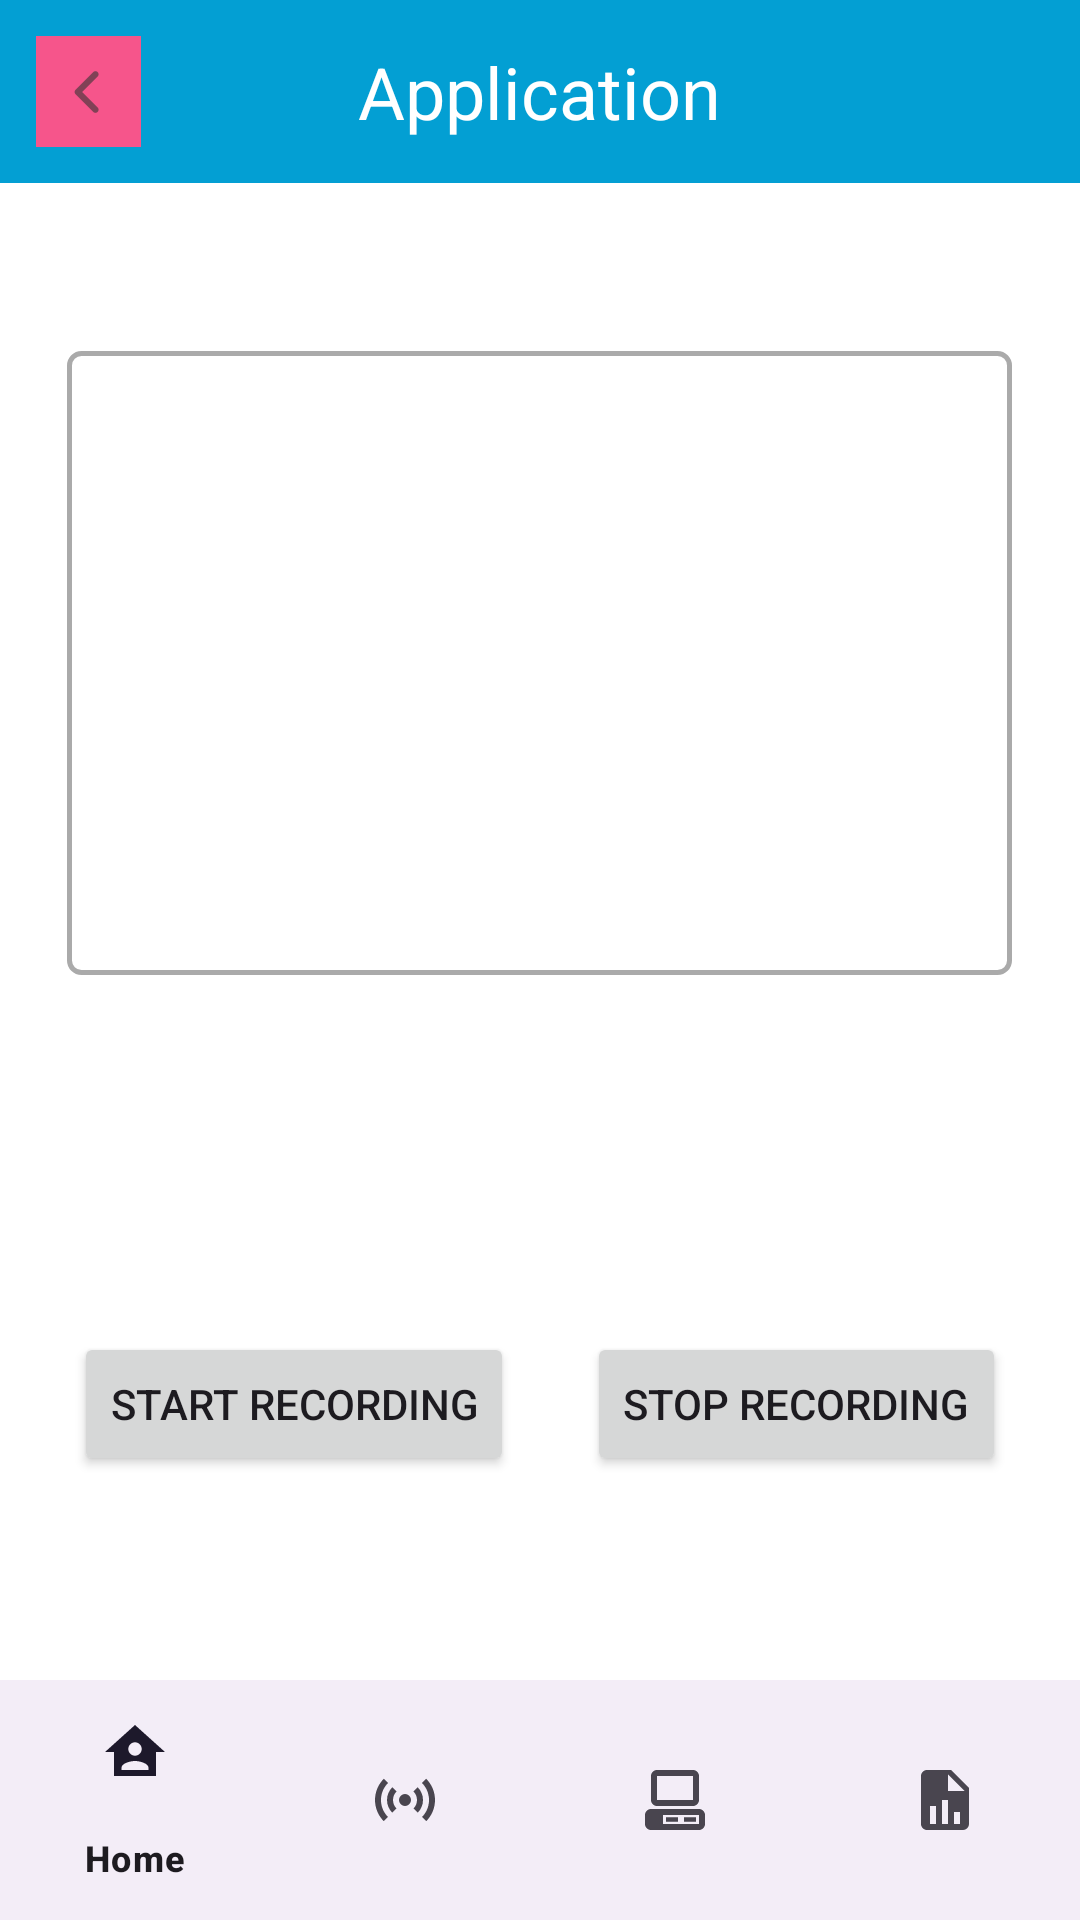

Screen size 1080px×1920px. Icon name, then its box in pixels as rect(x1, y1, x2, y2):
left arrow: rect(36, 36, 141, 147)
